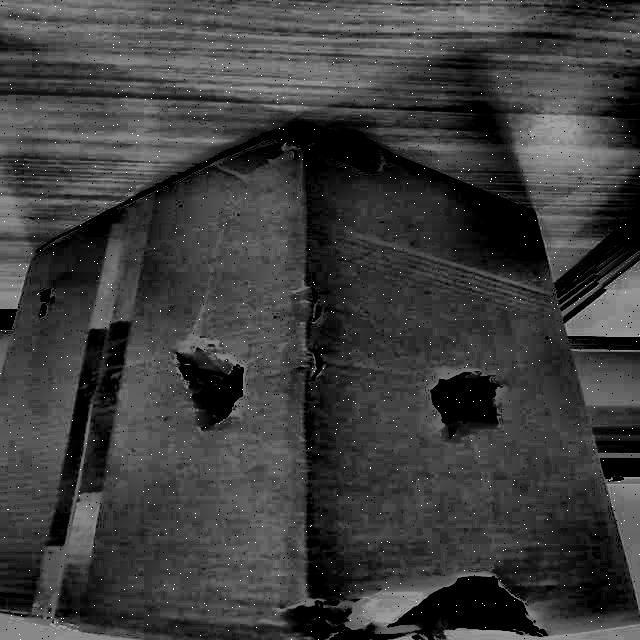box: (1, 104, 640, 640)
hole: (286, 573, 555, 640), (418, 360, 520, 443), (171, 338, 251, 435), (264, 132, 388, 181), (19, 268, 66, 330)
